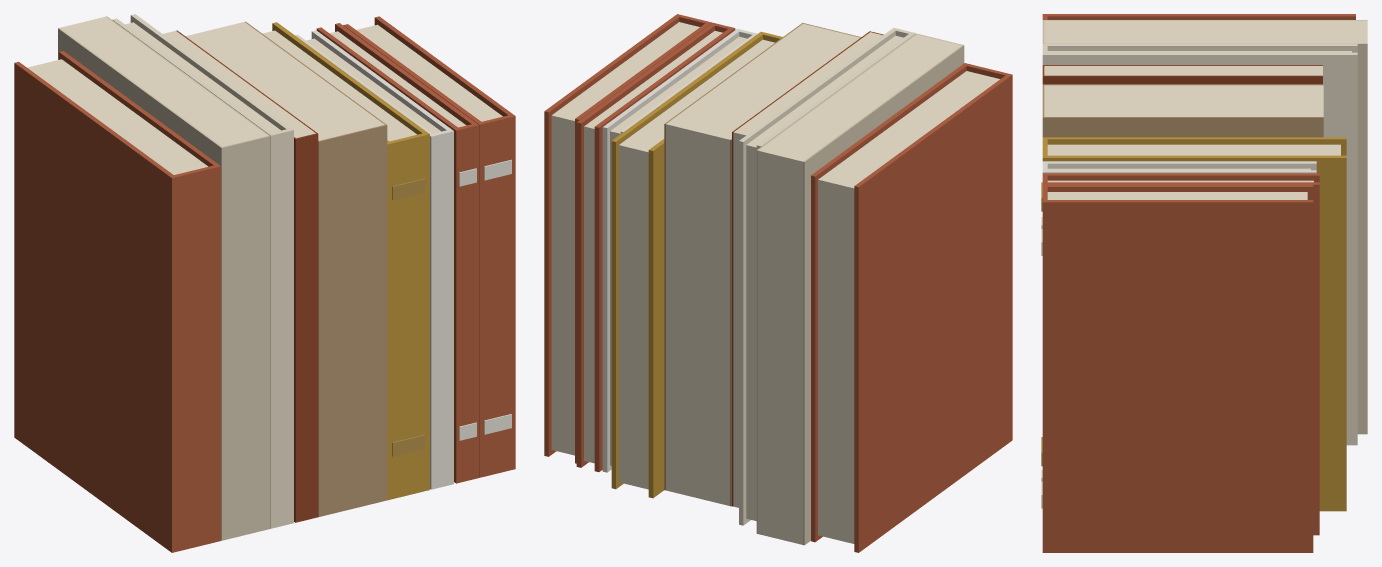
The picture shows the model from 3 angles, left to right: view 1: azimuth 30°, elevation 25°; view 2: azimuth 150°, elevation 25°; view 3: azimuth 270°, elevation 25°; orthographic projection. The views are drawn at different scales.
Visible parts, largest first — view 1: book, book.004, book.001, book.005, book.008, book.002, book.007, book.003, book.006; view 2: book, book.004, book.001, book.005, book.008, book.007, book.002, book.006, book.003; view 3: book.008, book.005, book.004, book.002, book.001, book.007, book.003, book.006, book.
Boxes of the visible parts, x1,y1,x2,y2 form: book: (14, 51, 220, 552); book.004: (185, 21, 387, 517); book.001: (58, 16, 270, 540); book.005: (262, 22, 429, 500); book.008: (343, 16, 515, 477); book.002: (112, 14, 293, 528); book.007: (316, 23, 479, 483); book.003: (163, 30, 318, 522); book.006: (295, 30, 453, 489); book: (811, 63, 1012, 552); book.004: (664, 22, 861, 506); book.001: (756, 33, 964, 545); book.005: (611, 31, 782, 498); book.008: (544, 14, 711, 463); book.007: (576, 22, 735, 471); book.002: (739, 28, 915, 525); book.006: (602, 28, 757, 472); book.003: (732, 31, 883, 507); book.008: (1041, 184, 1313, 552); book.005: (1041, 137, 1346, 511); book.004: (1042, 84, 1323, 137); book.002: (1042, 43, 1357, 445); book.001: (1042, 20, 1367, 434); book.007: (1041, 173, 1319, 535); book.003: (1042, 65, 1322, 84); book.006: (1042, 161, 1316, 173); book: (1042, 14, 1355, 19).
Size of the model in its own units: 0.2098 by 0.2293 by 0.1737.
